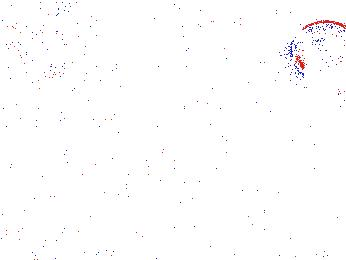moon jellyfish: (151, 10, 234, 81), (14, 1, 76, 80), (289, 20, 346, 95), (1, 22, 48, 108), (216, 11, 305, 47)
